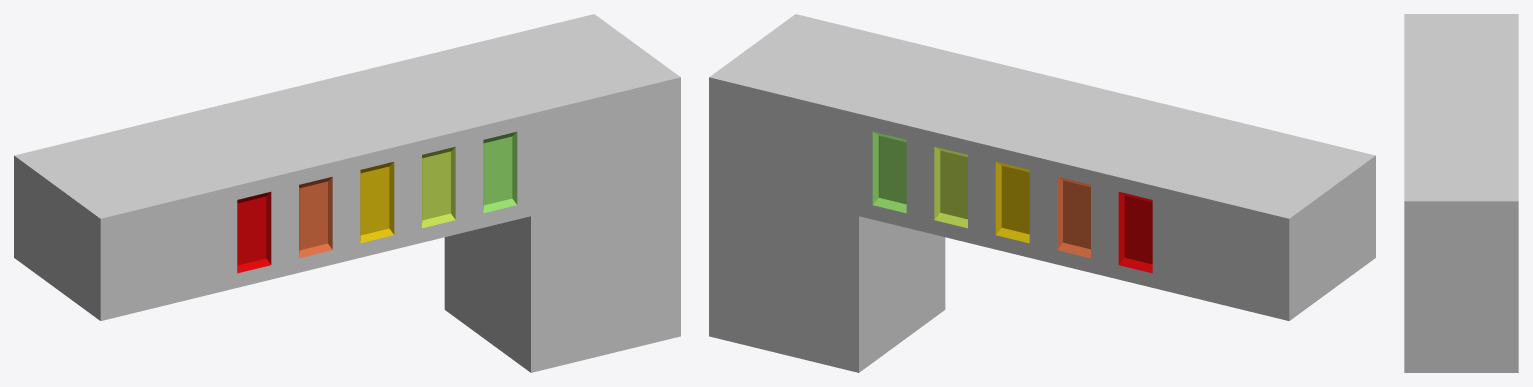
The model's file is PLH_Gun.fbx.
The picture shows the model from 3 angles, left to right: view 1: azimuth 30°, elevation 25°; view 2: azimuth 150°, elevation 25°; view 3: azimuth 270°, elevation 25°; orthographic projection. The views are drawn at different scales.
Visible parts, largest first — view 1: PLH_Gun; view 2: PLH_Gun; view 3: PLH_Gun.
Part boxes in pixels (x1,y1,x2,y2): PLH_Gun: [14, 14, 680, 372]; PLH_Gun: [709, 14, 1375, 372]; PLH_Gun: [1404, 14, 1518, 372].
Size of the model in its own units: 322 by 137 by 83.08.
